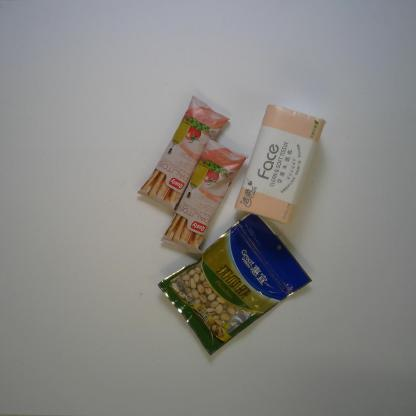Dessert: (138, 93, 230, 214), (158, 136, 250, 255)
Dried Fruit: (157, 206, 316, 361)
Tissue: (233, 103, 328, 228)
